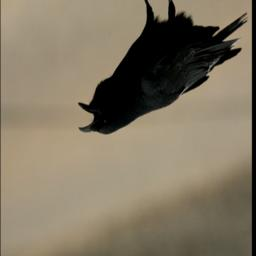Crow: (78, 0, 248, 135)
